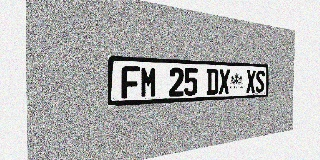2: (169, 67, 184, 97)
5: (184, 68, 198, 96)
D: (207, 69, 219, 95)
F: (121, 66, 140, 99)
M: (140, 66, 157, 98)
S: (256, 70, 265, 93)
X: (219, 69, 230, 94), (246, 70, 256, 93)
